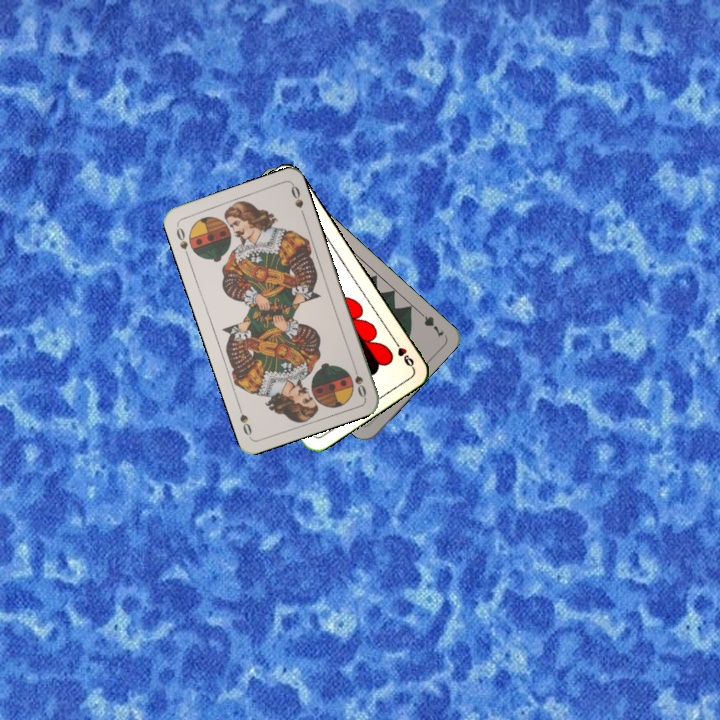G7: (413, 306, 447, 340)
H9: (389, 335, 417, 371)
SO: (348, 360, 369, 400), (172, 221, 192, 261)
